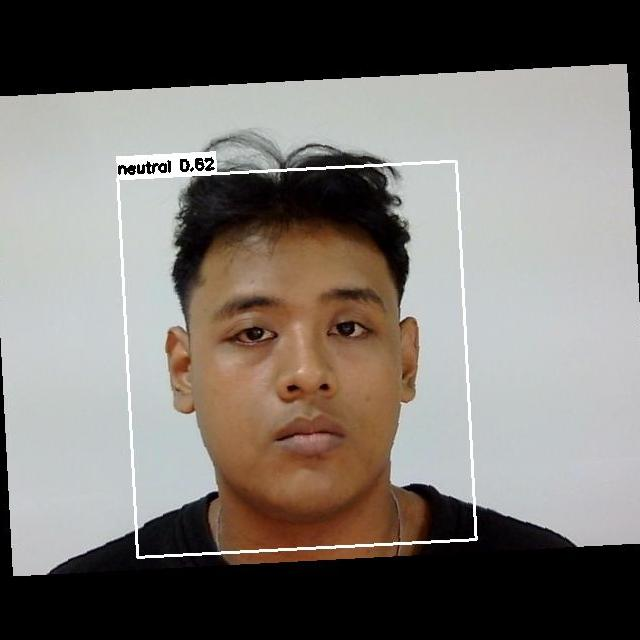Natural: (197, 288, 435, 471)
